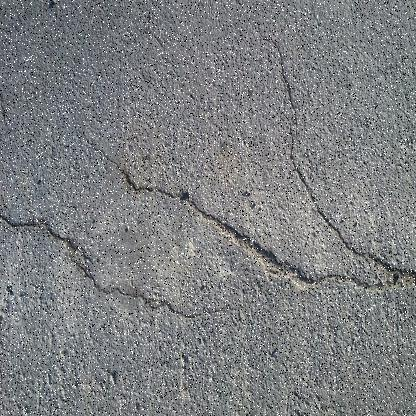Cracks: (92, 144, 415, 302), (263, 36, 416, 289), (0, 204, 243, 326)
